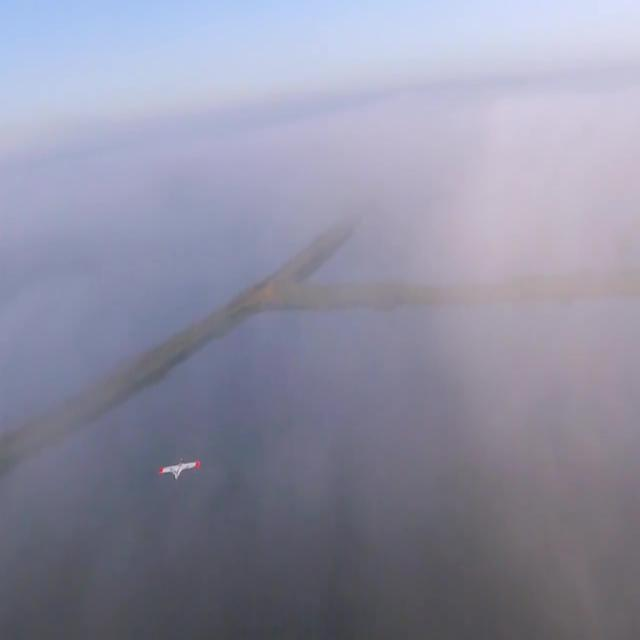iha: (157, 458, 201, 482)
